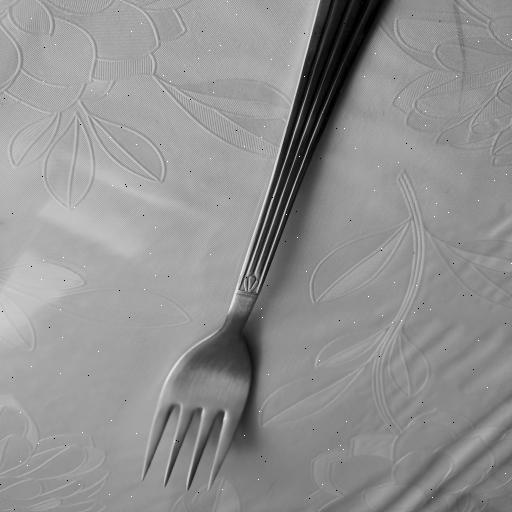fork: (134, 0, 394, 489)
